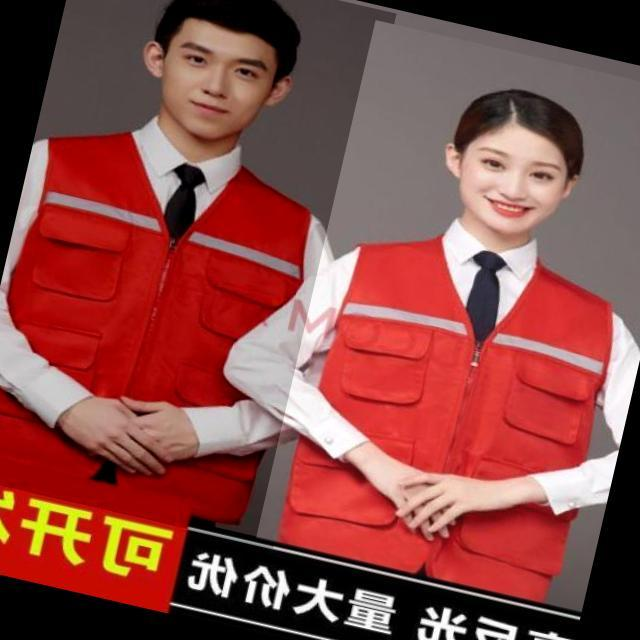Person: (315, 5, 633, 640), (5, 7, 294, 610)
Safety Vest: (0, 104, 337, 524), (283, 209, 637, 607)
bare-arms: (369, 432, 503, 542), (67, 381, 163, 480), (132, 394, 191, 471)
no-helmet: (137, 2, 303, 120), (445, 86, 568, 228)
